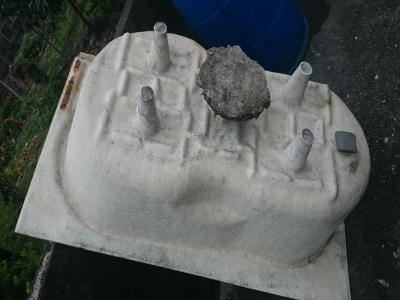tub: (15, 19, 377, 296)
